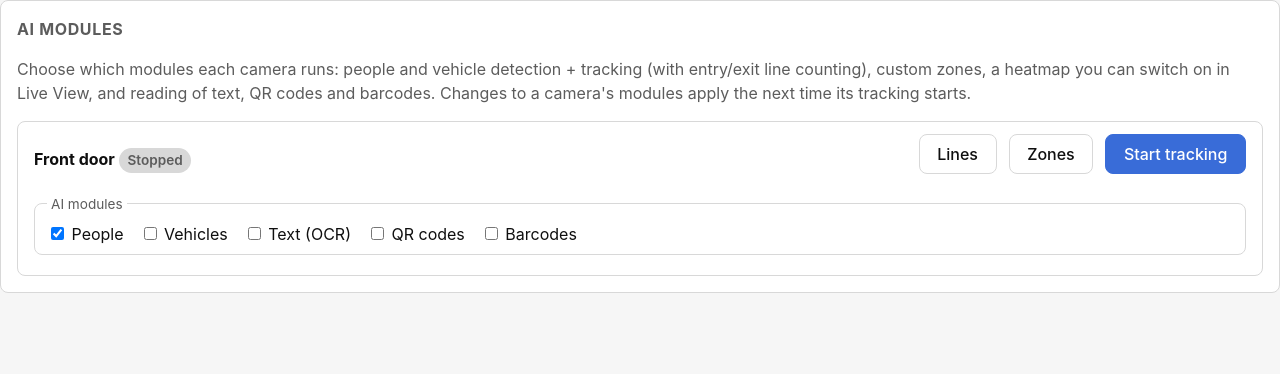
Scenario: AIModulesPage › shows a mutation error if starting tracking fails
This screenshot has width=1280, height=374.
Step 1. Click the button "Start tracking" → {"x": 1176, "y": 154}, box [1105,134,1246,174]
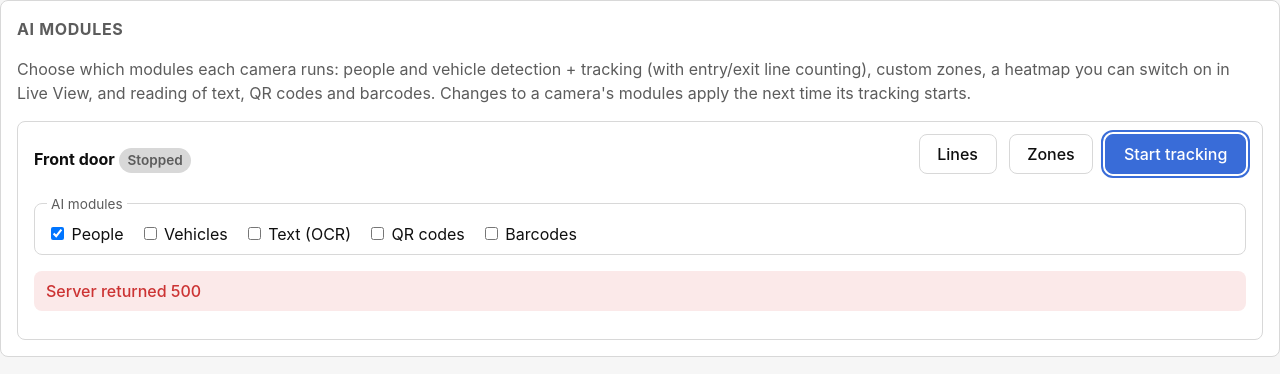
Check: the text "Server returned 500" is shown, box [34,271,1246,311]
